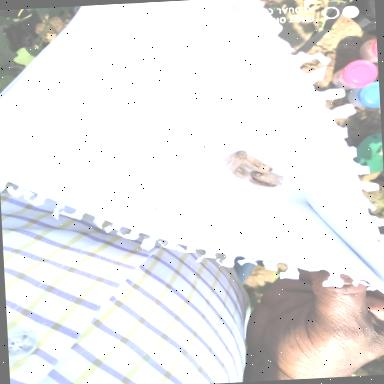abw: (245, 170, 282, 194), (237, 154, 274, 177), (216, 148, 248, 173), (224, 158, 254, 184)
